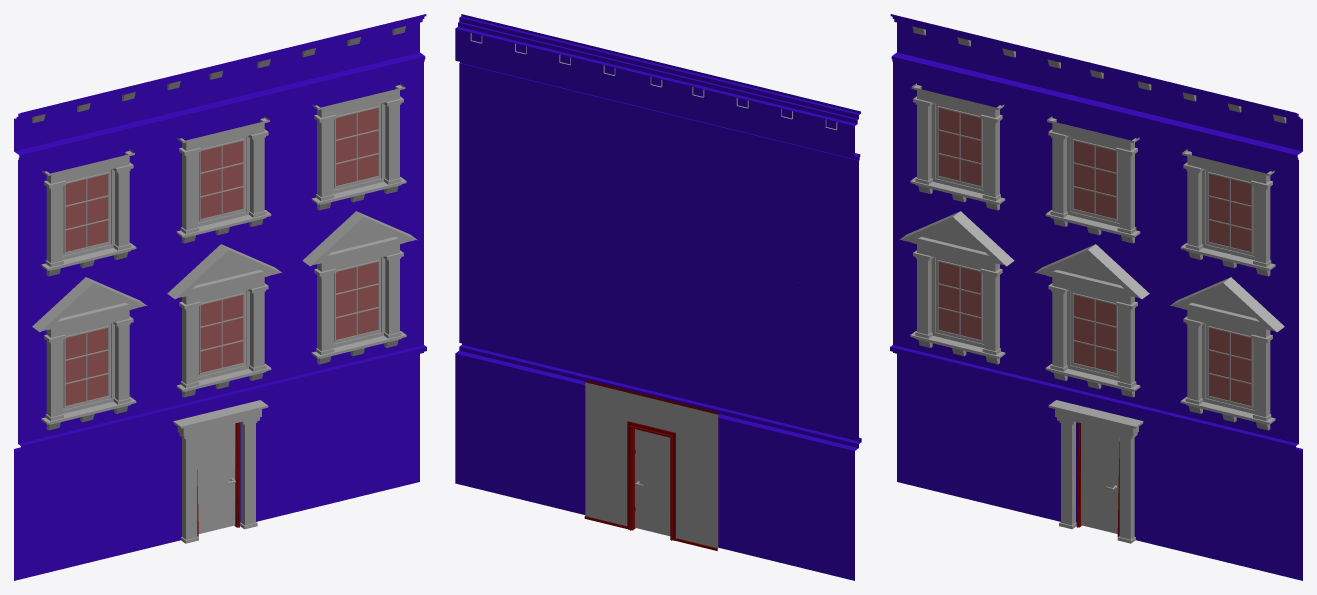
Rendered from Prop_WallExtDoor_01.fbx.
3 views of the same model, side by side, from view 1: azimuth 30°, elevation 25°; view 2: azimuth 150°, elevation 25°; view 3: azimuth 330°, elevation 25° (orthographic).
Visible parts, largest first — view 1: Prop_WalExtDoor_01, Door, Door_FrameExt; view 2: Prop_WalExtDoor_01, Door_FrameInt, Door, Door_FrameExt; view 3: Prop_WalExtDoor_01, Door, Door_FrameExt.
Boxes of the visible parts, left/top/right/bottom form: Prop_WalExtDoor_01: left=14, top=14, right=426, bottom=580; Door: left=197, top=423, right=235, bottom=533; Door_FrameExt: left=197, top=422, right=239, bottom=536; Prop_WalExtDoor_01: left=455, top=14, right=861, bottom=580; Door_FrameInt: left=584, top=379, right=718, bottom=550; Door: left=635, top=429, right=670, bottom=536; Door_FrameExt: left=627, top=421, right=675, bottom=540; Prop_WalExtDoor_01: left=890, top=14, right=1302, bottom=580; Door: left=1081, top=423, right=1119, bottom=533; Door_FrameExt: left=1076, top=422, right=1119, bottom=536.
Size of the model in its own units: 901 by 1002 by 63.37.
